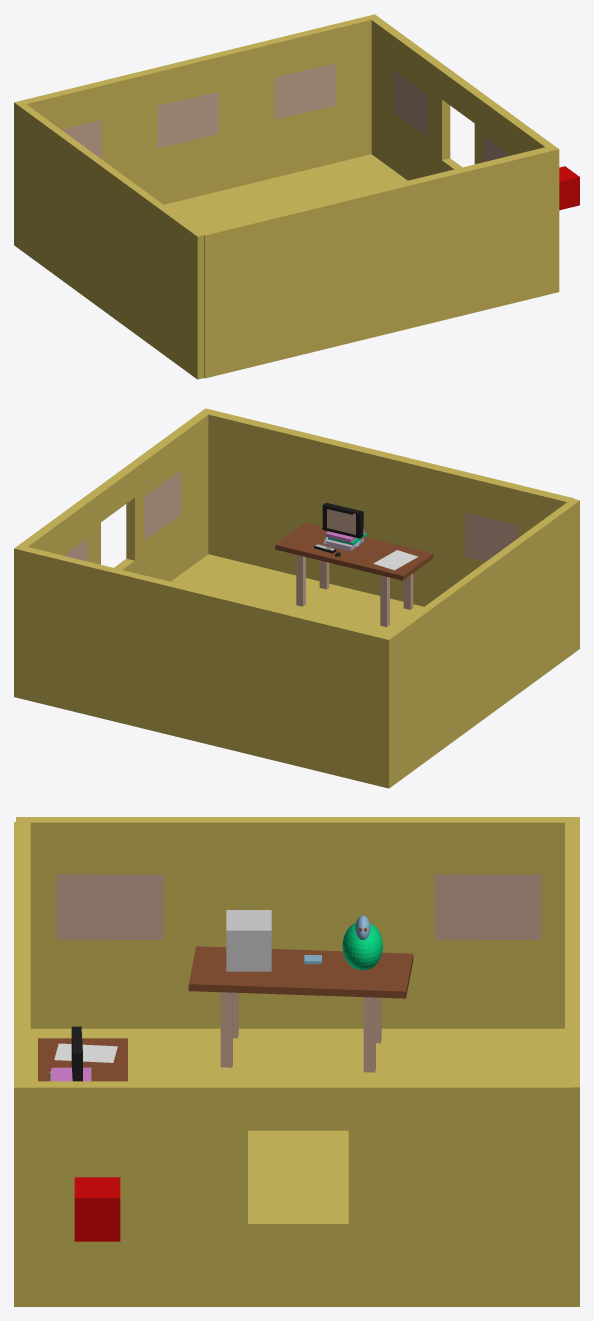
Rendered from room2b.gltf.
The picture shows the model from 3 angles, top to bottom: view 1: azimuth 30°, elevation 25°; view 2: azimuth 150°, elevation 25°; view 3: azimuth 270°, elevation 25°; orthographic projection. The views are drawn at different scales.
Parts seen in each view (by area): view 1: Cube, P web.005, P web.006, P web.007, P web.004, Cube.128; view 2: Cube, P table, P web.001, P web.008, Cube.010, P web, Cube.002, Cube.003, CV; view 3: Cube, P table.002, P web.002, P web.003, Cube.128, Cube.127, P table, Sphere, Cube.011, Cube.125, CV, Cube.010.
Part boxes in pixels (x1,y1,x2,y2): Cube: (14,14,559,379); P web.005: (157,91,218,148); P web.006: (275,63,335,119); P web.007: (393,70,427,137); P web.004: (61,120,101,158); Cube.128: (559,166,579,210); Cube: (14,408,579,788); P table: (275,522,433,580); P web.001: (465,512,518,561); P web.008: (144,470,180,540); Cube.010: (322,502,363,538); P web: (327,509,355,534); Cube.002: (380,575,389,626); Cube.003: (296,555,305,606); CV: (373,550,418,570); Cube: (14,817,579,1306); P table.002: (188,946,413,998); P web.002: (56,874,163,939); P web.003: (434,874,541,939); Cube.128: (74,1177,120,1241); Cube.127: (226,910,271,971); P table: (38,1038,127,1081); Sphere: (342,922,382,969); Cube.011: (220,992,232,1067); Cube.125: (363,997,375,1072); CV: (54,1043,117,1062); Cube.010: (71,1026,82,1081).
Size of the model in its own units: 14.2 by 4.83 by 11.29.
